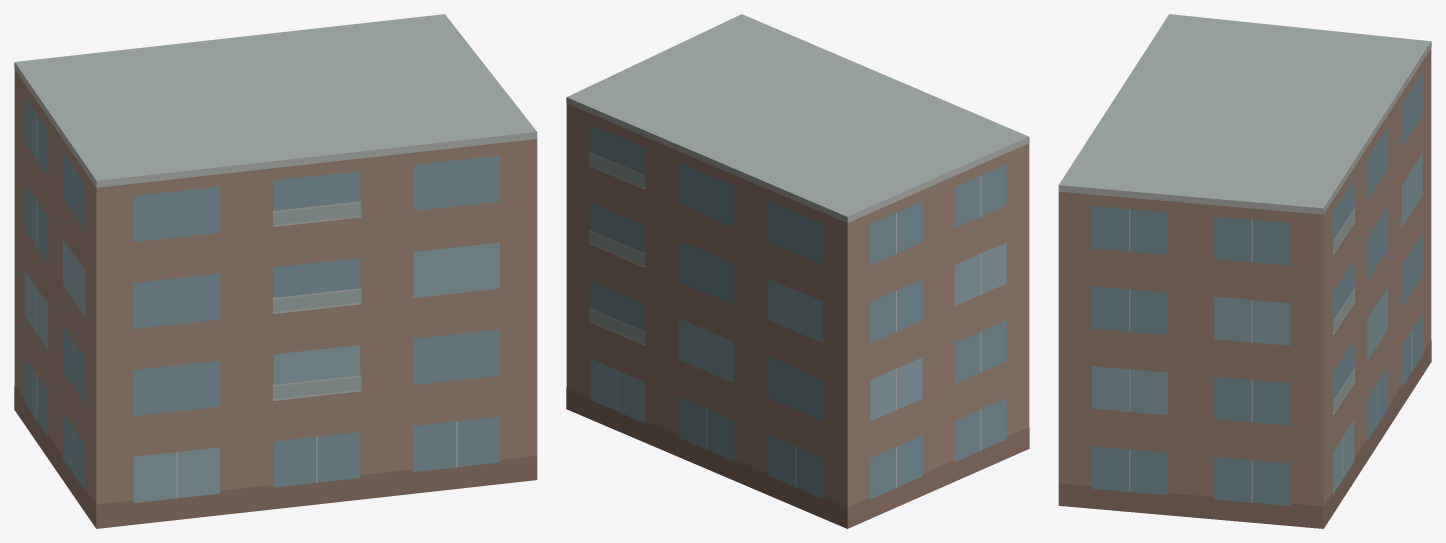
The model's file is survey-upis-33000209.glb.
3 renders of one model, left to right at view 1: azimuth 30°, elevation 25°; view 2: azimuth 150°, elevation 25°; view 3: azimuth 270°, elevation 25°, orthographic. The views are drawn at different scales.
Parts seen in each view (by area): view 1: survey-upis-33000209.tmp; view 2: survey-upis-33000209.tmp; view 3: survey-upis-33000209.tmp.
Boxes of the visible parts, x1,y1,x2,y2 form: survey-upis-33000209.tmp: (14, 14, 537, 528); survey-upis-33000209.tmp: (566, 14, 1029, 528); survey-upis-33000209.tmp: (1058, 14, 1431, 528).
Bounding box in the file's own units: 15.87 × 12.2 × 12.87.
